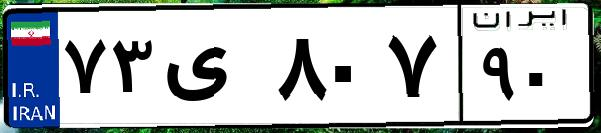0: (330, 28, 385, 110), (525, 38, 570, 115)
3: (110, 28, 158, 98)
7: (385, 28, 445, 110), (57, 26, 110, 100)
8: (270, 28, 330, 110)
9: (475, 38, 525, 113)
ی: (158, 20, 270, 120)
